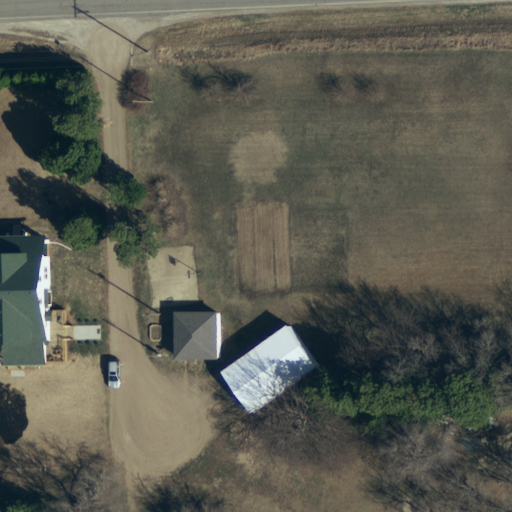DT: (124, 42, 155, 71), (128, 93, 155, 117), (143, 345, 167, 368), (138, 304, 163, 323)
